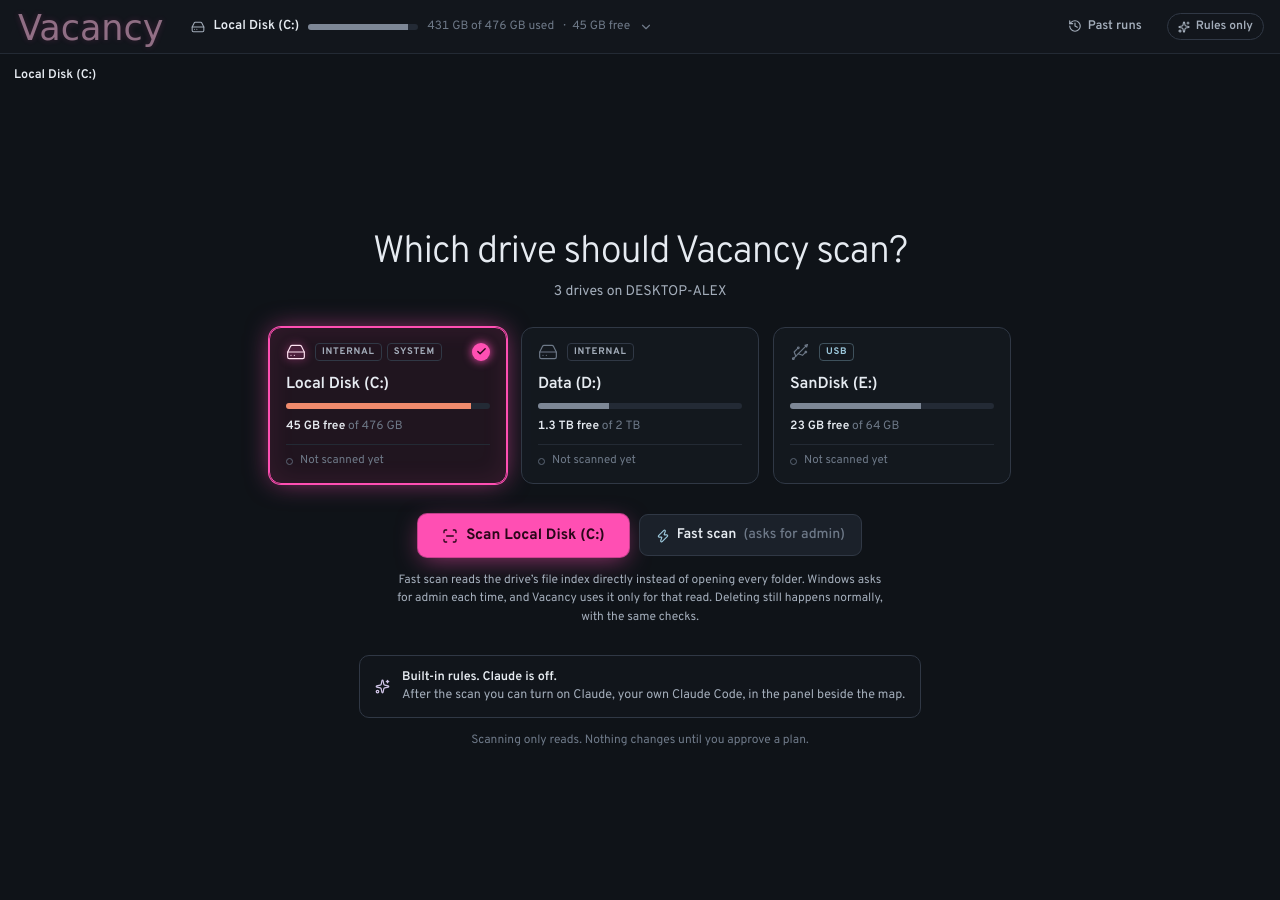
Test: past runs › says when there are no runs yet
Click the button "Past runs" at (1105, 26), box [1057, 13, 1153, 39]
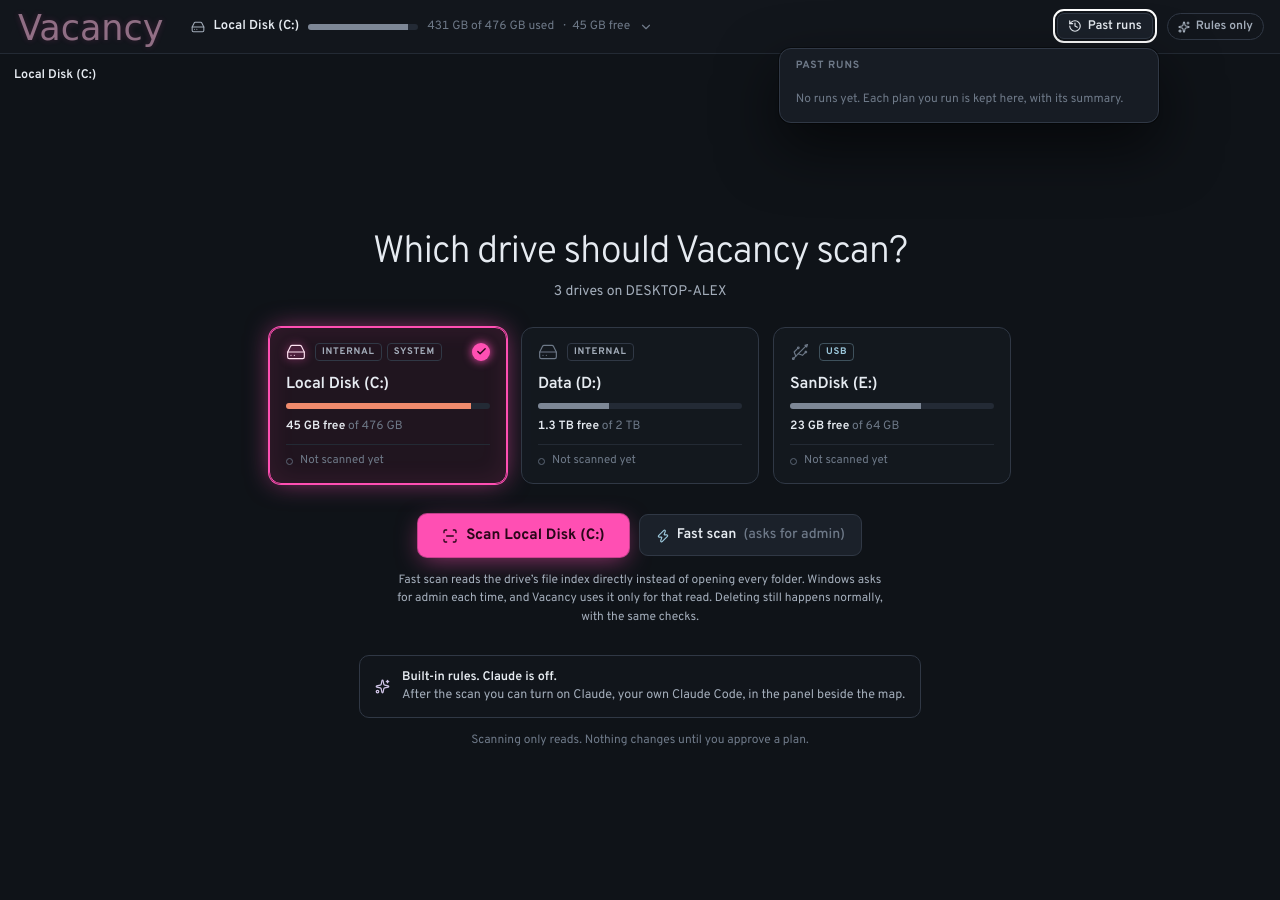
Expected: the text "No runs yet. Each plan you run is kept here, with its summary." is shown, [796, 91, 1123, 107]
